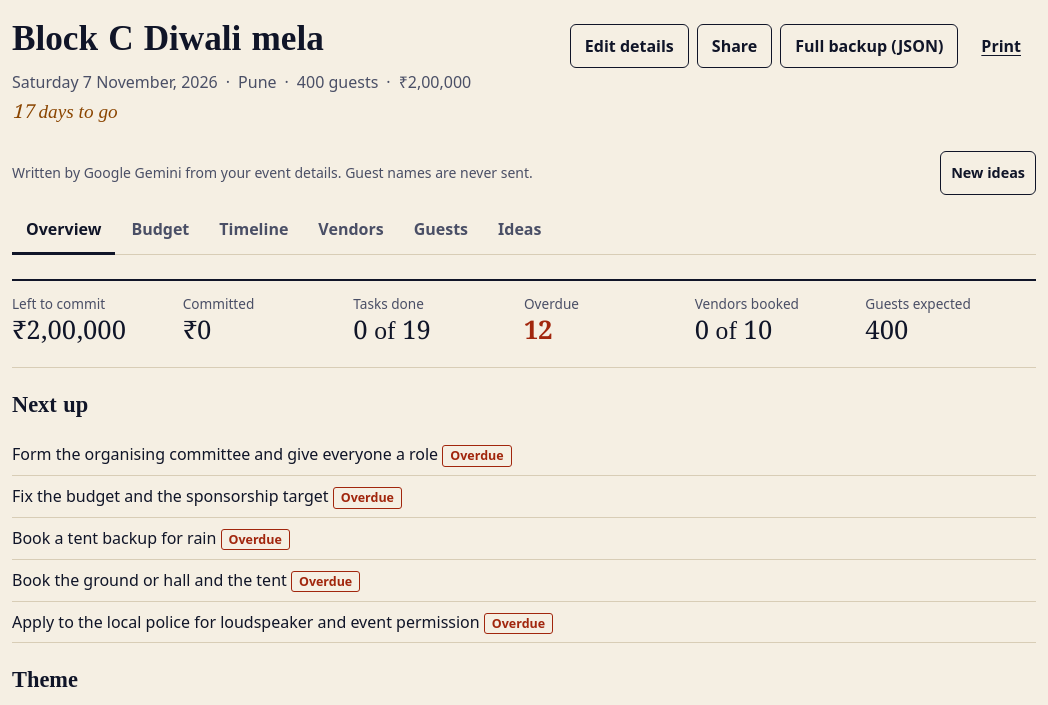
Test: workspace focus and announcements › focuses Undo after a removal, the open panel after undoing, and drops Undo once the plan moves on
Click the tab "Timeline".
click(254, 231)  # box left=205, top=207, right=302, bottom=255
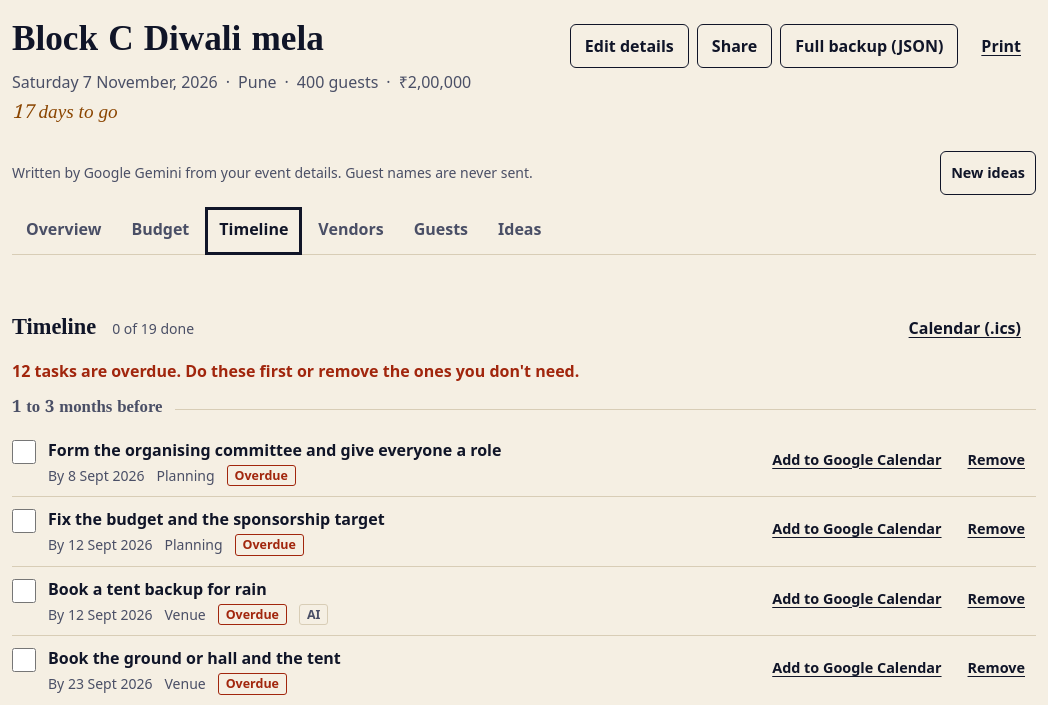
Click the button named "Remove Fix the budget and the sponsorship target".
click(996, 529)  # box left=956, top=507, right=1036, bottom=551
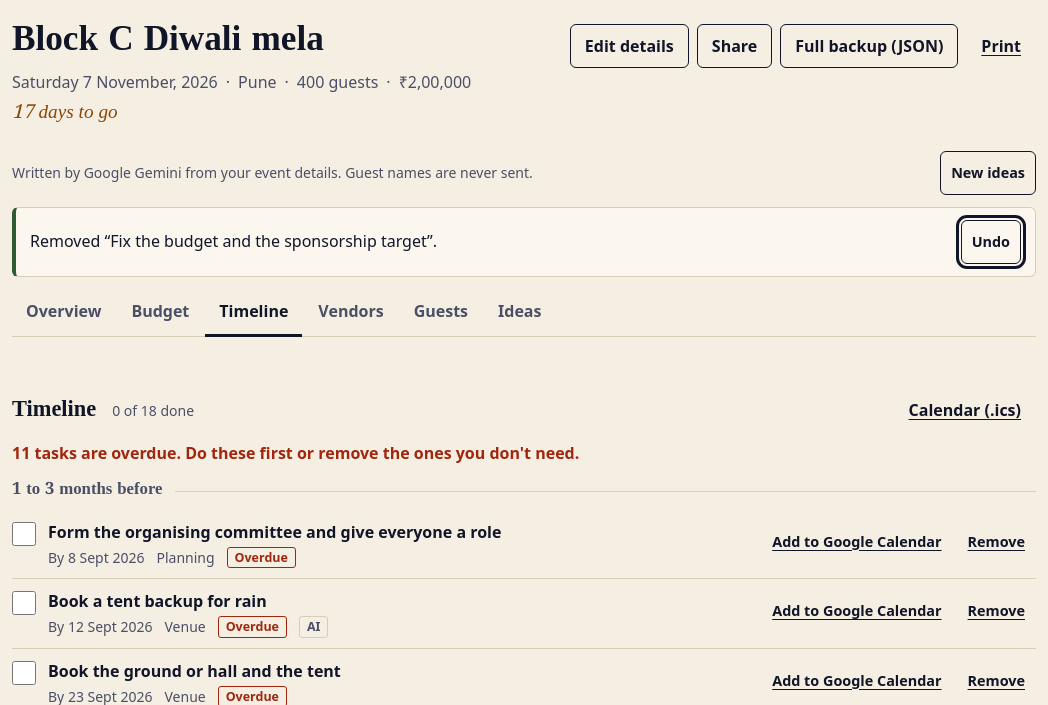
Click the button "Undo".
click(991, 242)  # box left=961, top=220, right=1021, bottom=264
(page scrolled)
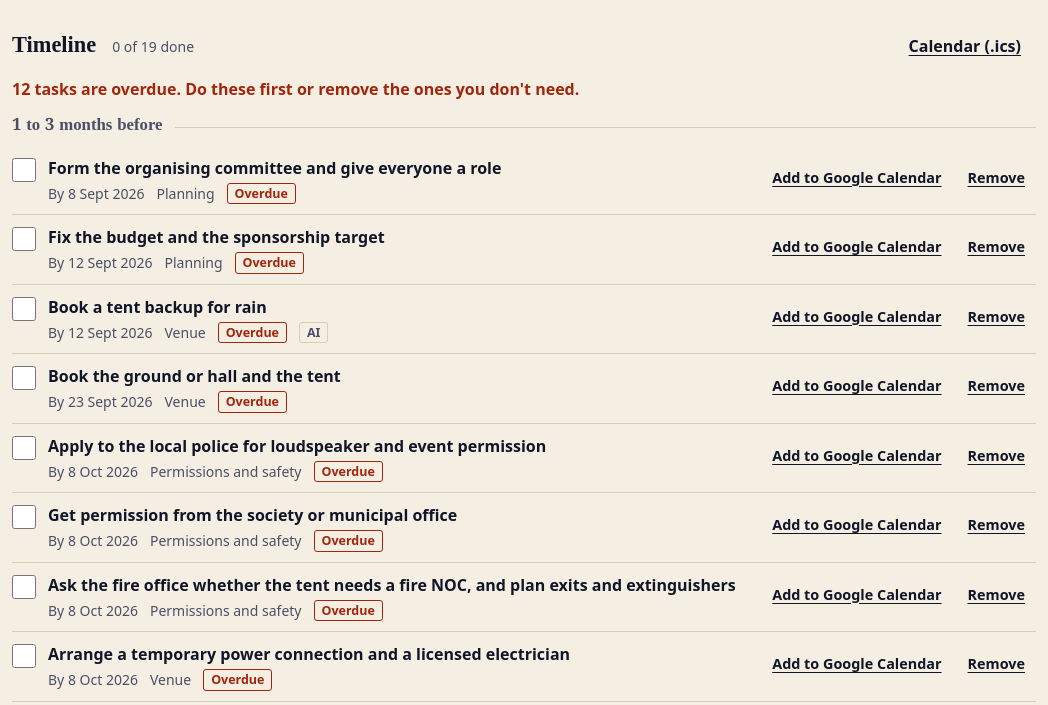
Click the button named "Remove Fix the budget and the sponsorship target".
click(996, 247)  # box left=956, top=225, right=1036, bottom=269
(page scrolled)
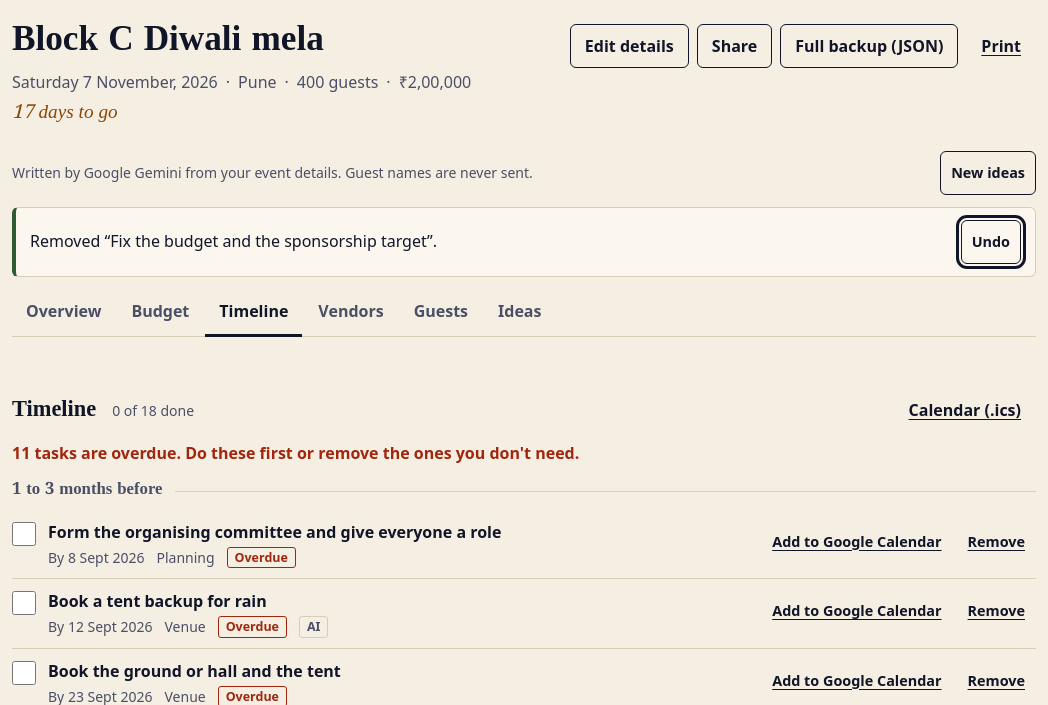
Click the checkbox named "Done: Form the organising committee".
click(24, 534)  # box left=12, top=522, right=36, bottom=546
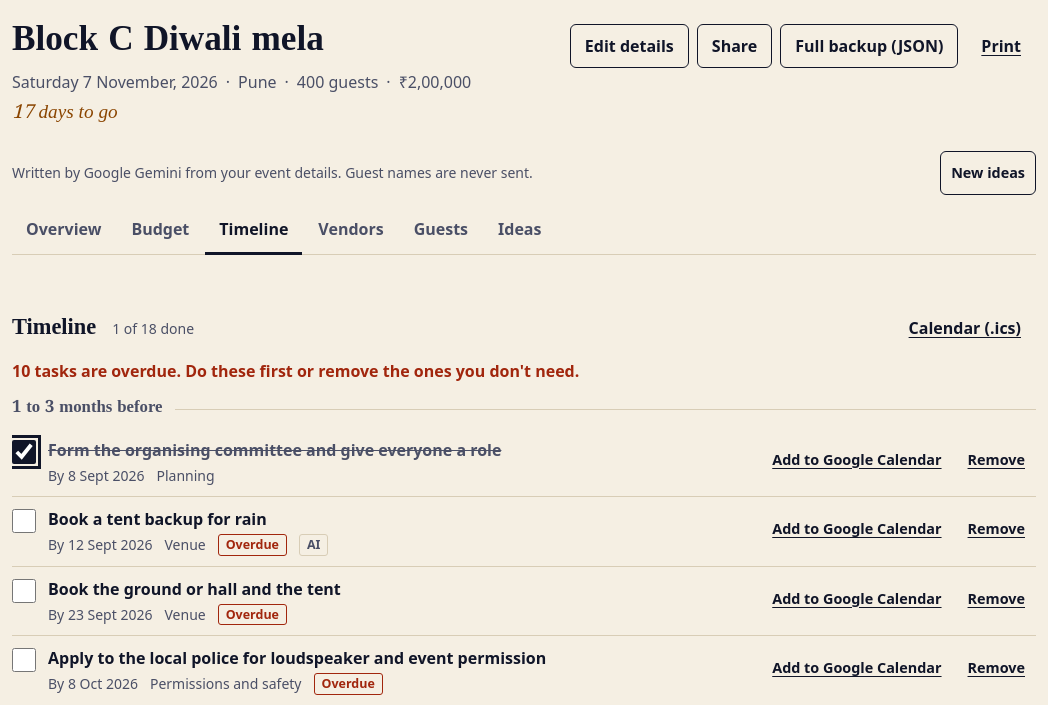
Result: the button "Undo" is gone
